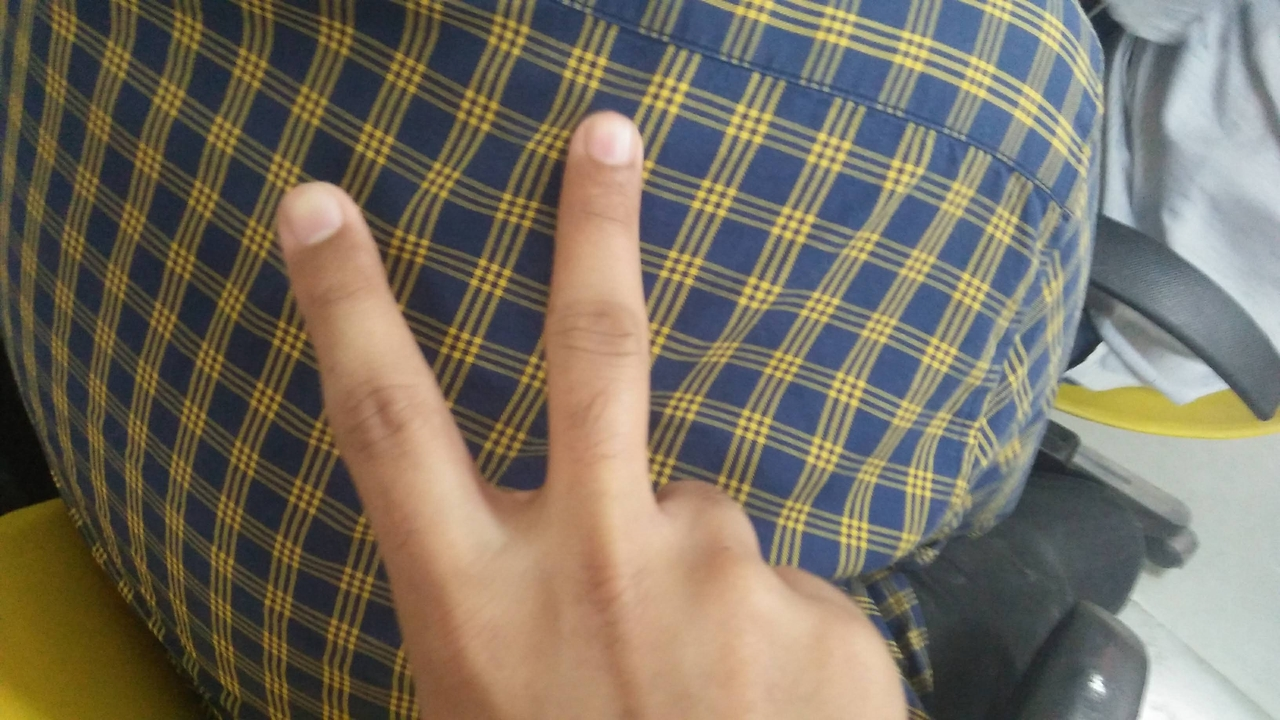fingertip: (256, 174, 368, 264), (558, 102, 652, 182)
